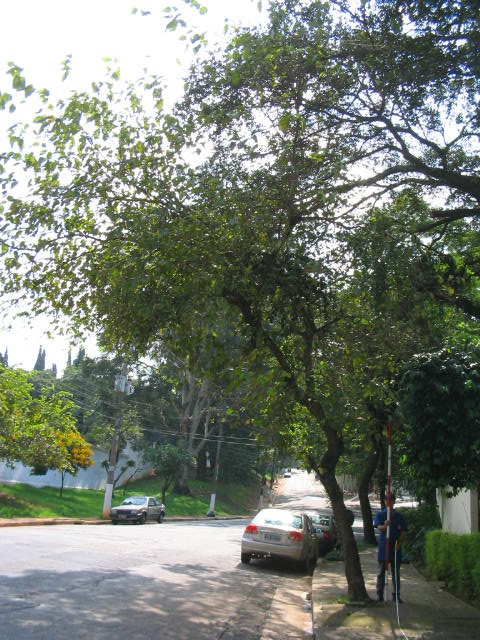crown: (4, 3, 381, 402)
stem: (291, 401, 378, 602)
stick: (379, 423, 397, 604)
tree: (2, 3, 385, 604)
